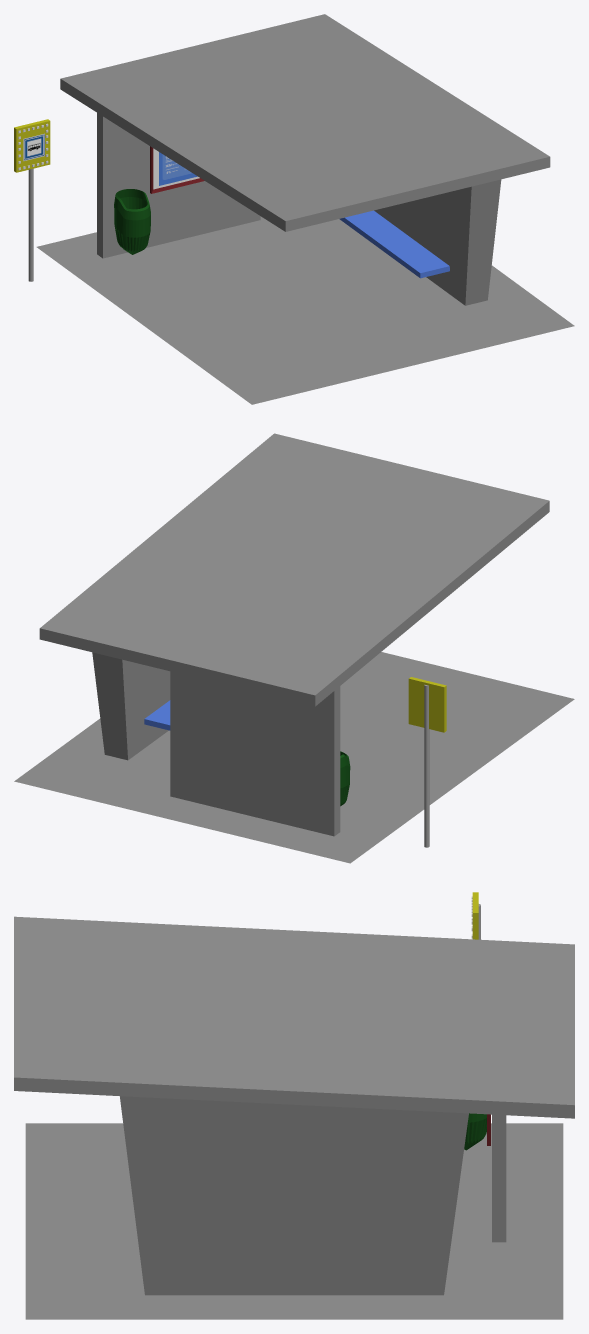
The model's file is bushokje.fbx.
The picture shows the model from 3 angles, top to bottom: view 1: azimuth 30°, elevation 25°; view 2: azimuth 150°, elevation 25°; view 3: azimuth 270°, elevation 25°; orthographic projection. The views are drawn at different scales.
Visible parts, largest first — view 1: Cube.002, Plane, Cube.001, Cube, Cube.003, Cylinder, Cube.007, Cube.005, Afbeelding van WhatsApp op 2023-10-30 om 15.41.56_db6294d0, Cylinder.001, bushalte-bord-kunststof-l3b; view 2: Cube.002, Plane, Cube.001, Cube, Cube.007, Cylinder.001; view 3: Cube.002, Cube, Plane, Cube.001, Cylinder.
Boxes of the visible parts, bbox=[...] form: Cube.002: bbox=[60, 14, 550, 231]; Plane: bbox=[36, 216, 574, 404]; Cube.001: bbox=[97, 113, 260, 258]; Cube: bbox=[374, 179, 501, 305]; Cube.003: bbox=[339, 210, 449, 278]; Cylinder: bbox=[114, 189, 150, 254]; Cube.007: bbox=[14, 119, 50, 172]; Cube.005: bbox=[150, 146, 204, 193]; Afbeelding van WhatsApp op 2023-10-30 om 15.41.56_db6294d0: bbox=[159, 152, 197, 185]; Cylinder.001: bbox=[28, 168, 33, 281]; bushalte-bord-kunststof-l3b: bbox=[23, 133, 44, 161]; Cube.002: bbox=[39, 433, 549, 706]; Plane: bbox=[14, 652, 574, 863]; Cube.001: bbox=[170, 671, 340, 836]; Cube: bbox=[92, 652, 170, 760]; Cube.007: bbox=[408, 677, 446, 732]; Cylinder.001: bbox=[424, 684, 429, 847]; Cube.002: bbox=[14, 916, 574, 1118]; Cube: bbox=[120, 1096, 468, 1295]; Plane: bbox=[25, 1123, 563, 1319]; Cube.001: bbox=[492, 1114, 506, 1242]; Cylinder: bbox=[464, 1113, 486, 1150].
Size of the model in its own units: 3381 by 1539 by 3478.
